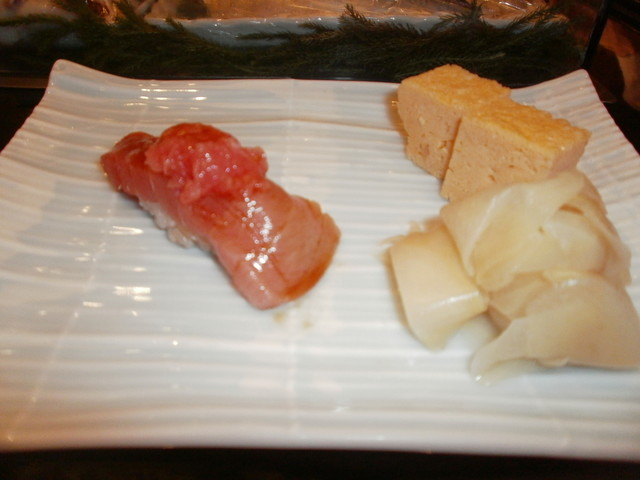medium_fatty_tuna: (102, 123, 347, 315)
